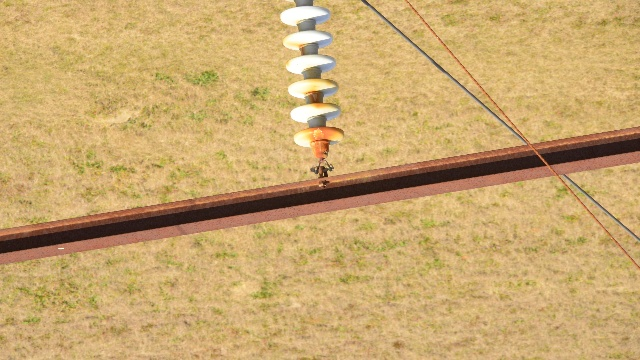insulator_unspecified: (279, 6, 344, 148)
pollution_flashover_local: (313, 128, 326, 140)
